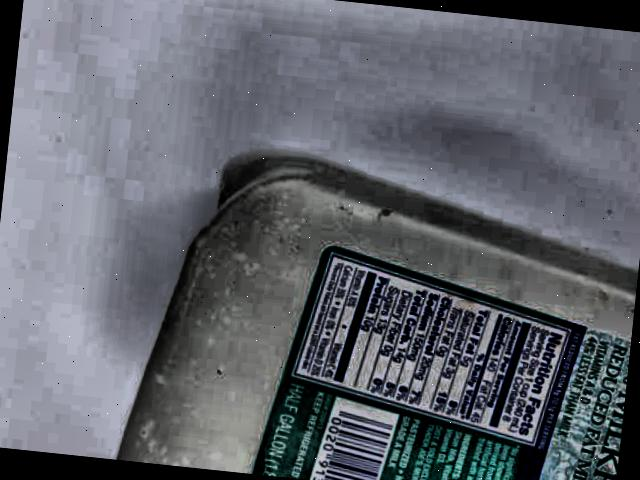Plastic: (270, 151, 640, 480)
